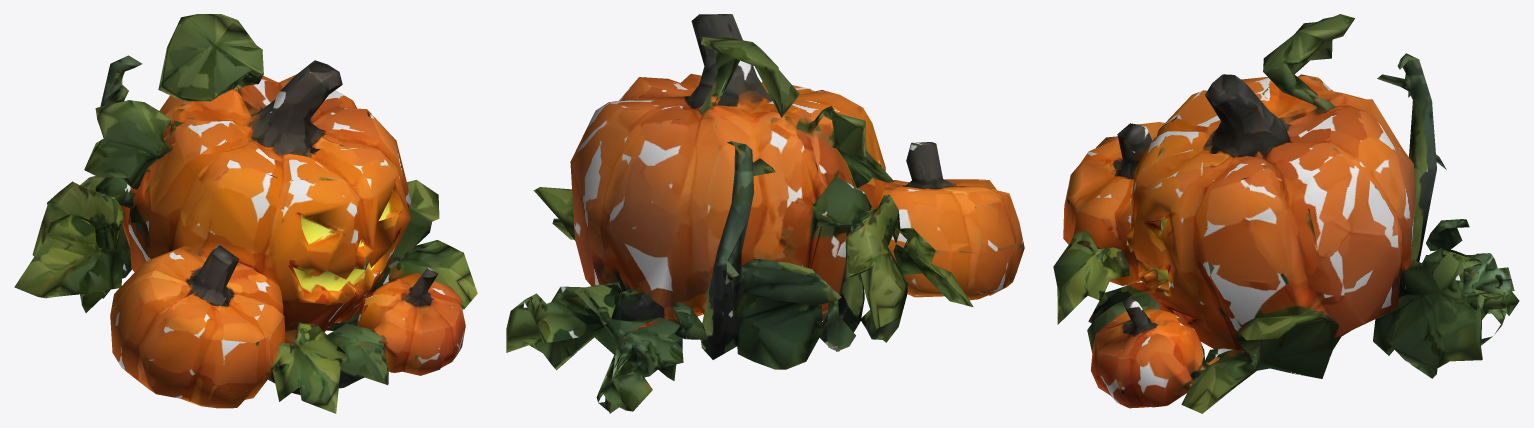
The model's file is dec_pumpkins.glb.
3 renders of one model, left to right at view 1: azimuth 30°, elevation 25°; view 2: azimuth 150°, elevation 25°; view 3: azimuth 270°, elevation 25°, orthographic. The views are drawn at different scales.
Visible parts, largest first — view 1: BakeLow; view 2: BakeLow; view 3: BakeLow.
Boxes of the visible parts, x1,y1,x2,y2 form: BakeLow: [14, 14, 477, 413]; BakeLow: [506, 14, 1024, 413]; BakeLow: [1053, 14, 1519, 413].
Bounding box in the file's own units: 0.8715 × 0.6101 × 0.8188.
Materials: 1 (1 with a texture image).
